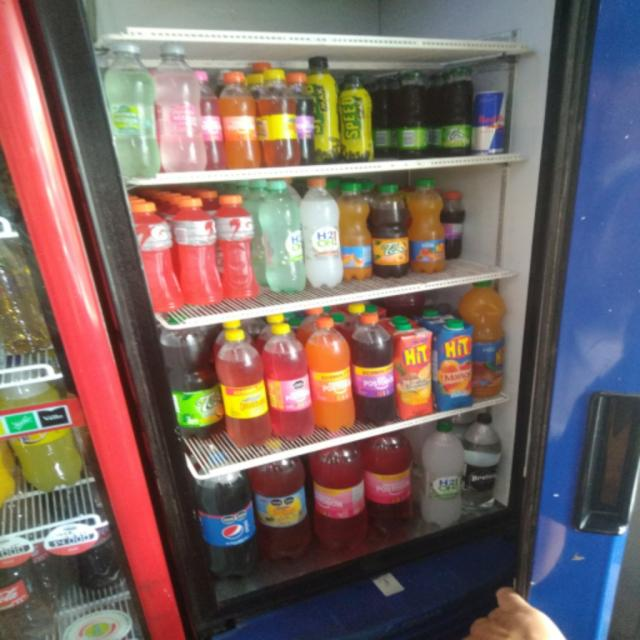Gatorade: (172, 197, 230, 307), (133, 201, 187, 317), (213, 192, 265, 303), (305, 54, 343, 164), (339, 70, 377, 162)
